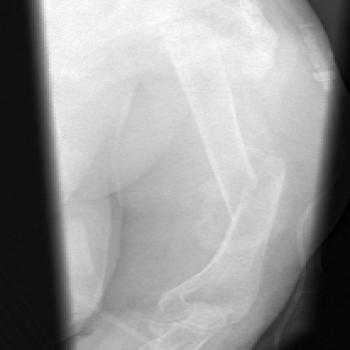Fracture: (213, 152, 294, 224)
